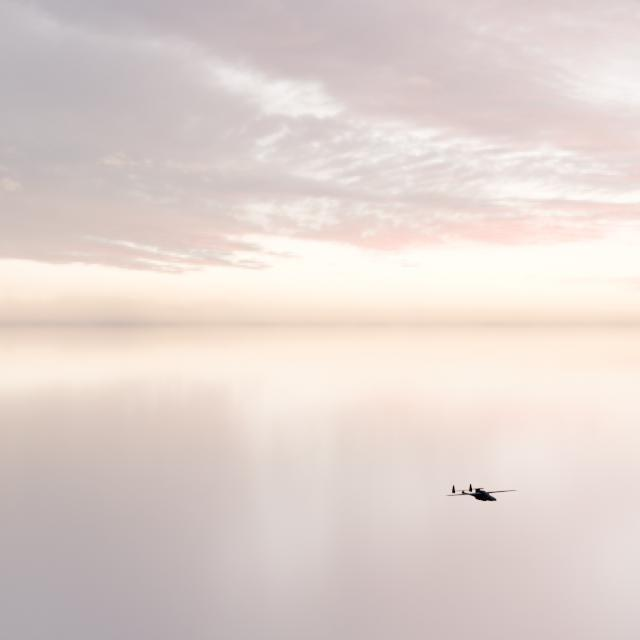Airaplan: (445, 483, 517, 501)
